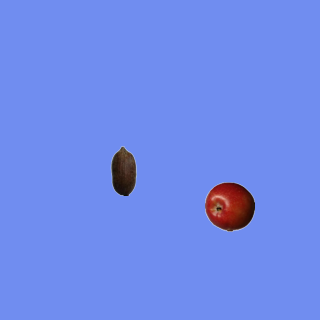Apple Braeburn: (204, 181, 254, 231)
Nut Pecan: (98, 145, 148, 195)
